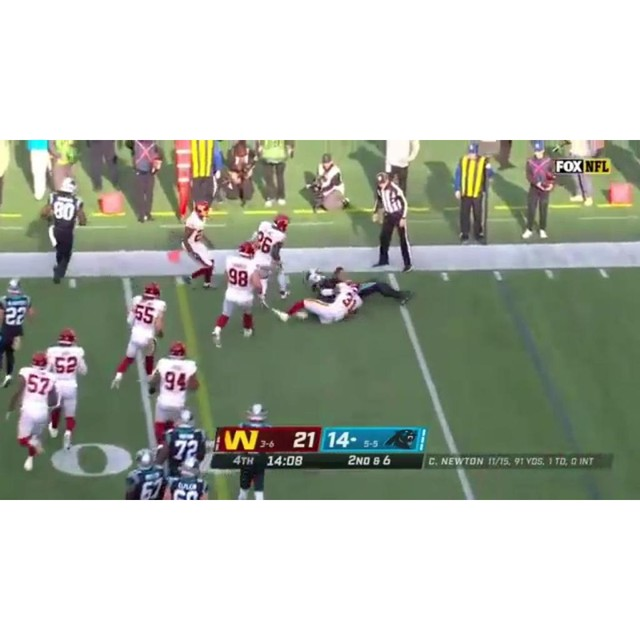american-football-player: (7, 350, 61, 472), (111, 282, 167, 393), (43, 328, 89, 451), (212, 242, 262, 348), (146, 341, 199, 440), (39, 178, 86, 285), (0, 281, 34, 390), (179, 202, 216, 291), (163, 409, 210, 476), (284, 288, 366, 325), (123, 446, 170, 500), (166, 458, 211, 500)
referee: (371, 173, 415, 271)
